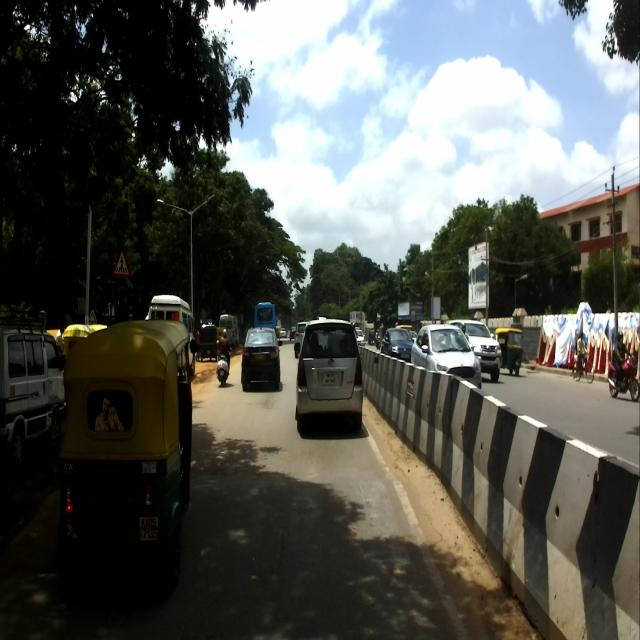Car_Ford: (411, 323, 482, 390)
Car_Maruti-Suzuki: (0, 305, 64, 479)
Car_Toyota: (294, 318, 364, 437)
autorickshaw: (56, 320, 198, 608)
